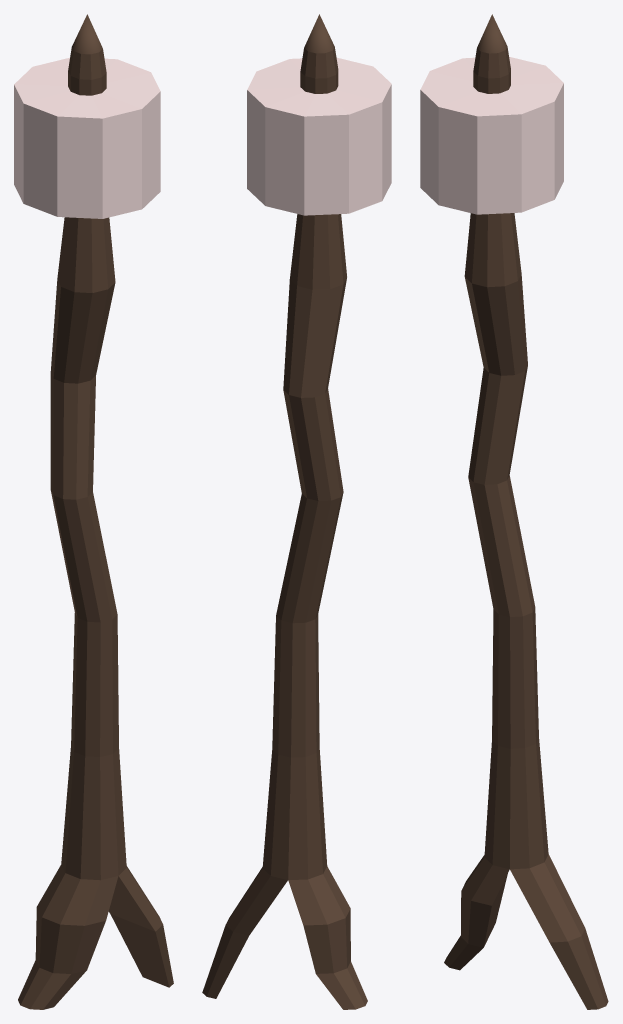
Rendered from Marshmallow stick.fbx.
3 views of the same model, side by side, from view 1: azimuth 30°, elevation 25°; view 2: azimuth 150°, elevation 25°; view 3: azimuth 330°, elevation 25° (orthographic). The views are drawn at different scales.
Visible parts, largest first — view 1: pCylinder1; view 2: pCylinder1; view 3: pCylinder1.
Boxes of the visible parts, x1,y1,x2,y2 form: pCylinder1: [14, 14, 173, 1009]; pCylinder1: [202, 14, 391, 1009]; pCylinder1: [420, 14, 608, 1009].
Bounding box in the file's own units: 0.2376 × 1.38 × 0.1757.
